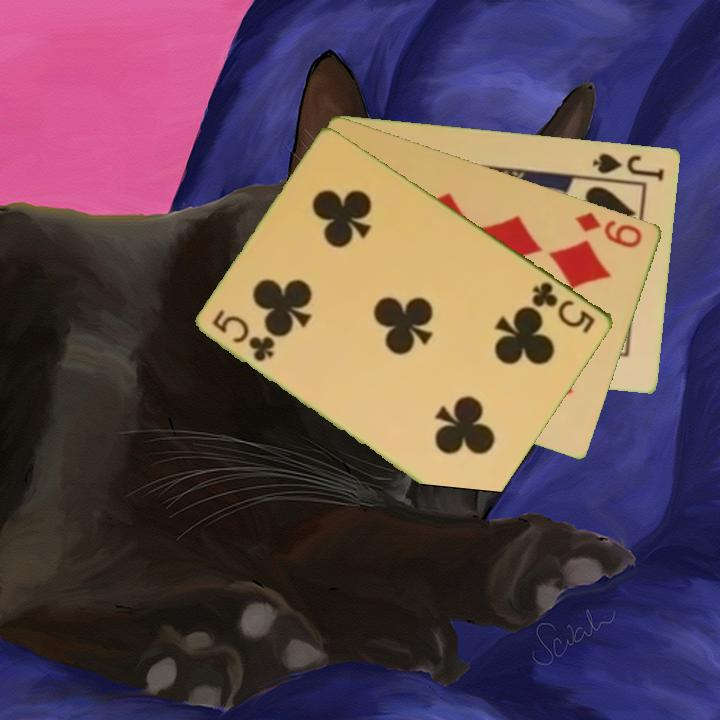5c: (528, 278, 599, 336), (209, 306, 278, 365)
9d: (572, 208, 646, 251)
Js: (589, 149, 667, 184)
